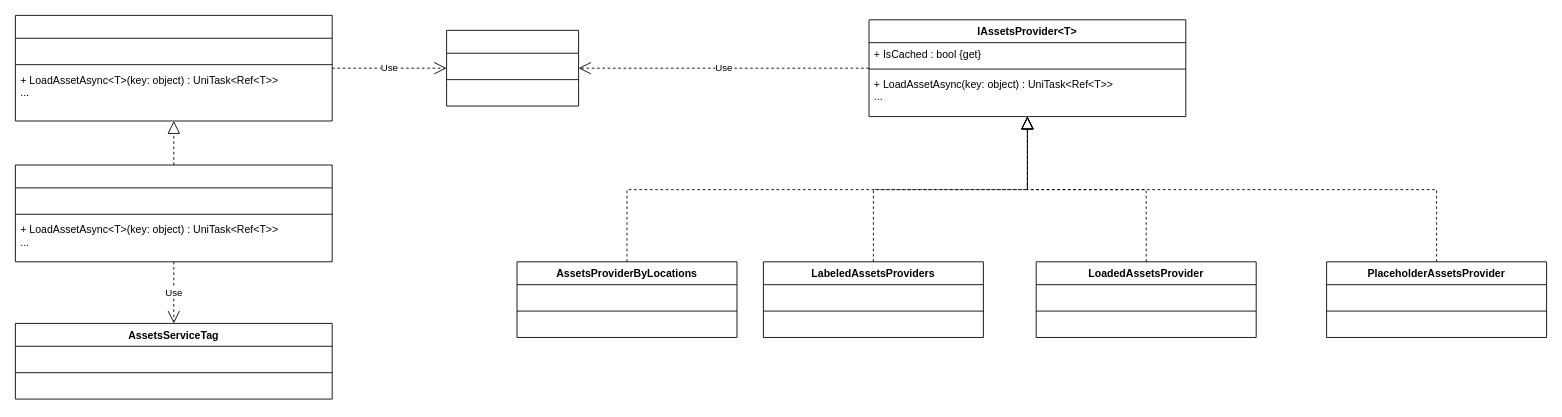
Some shapes in this 1562 by 417 pixel diagram are drawn without their labels. Each missing label, with the box of its shape:
AddressableAssetsService: (15, 164, 332, 262)
IAssetsService: (15, 15, 332, 121)
MergingMode : enum: (446, 29, 579, 106)
